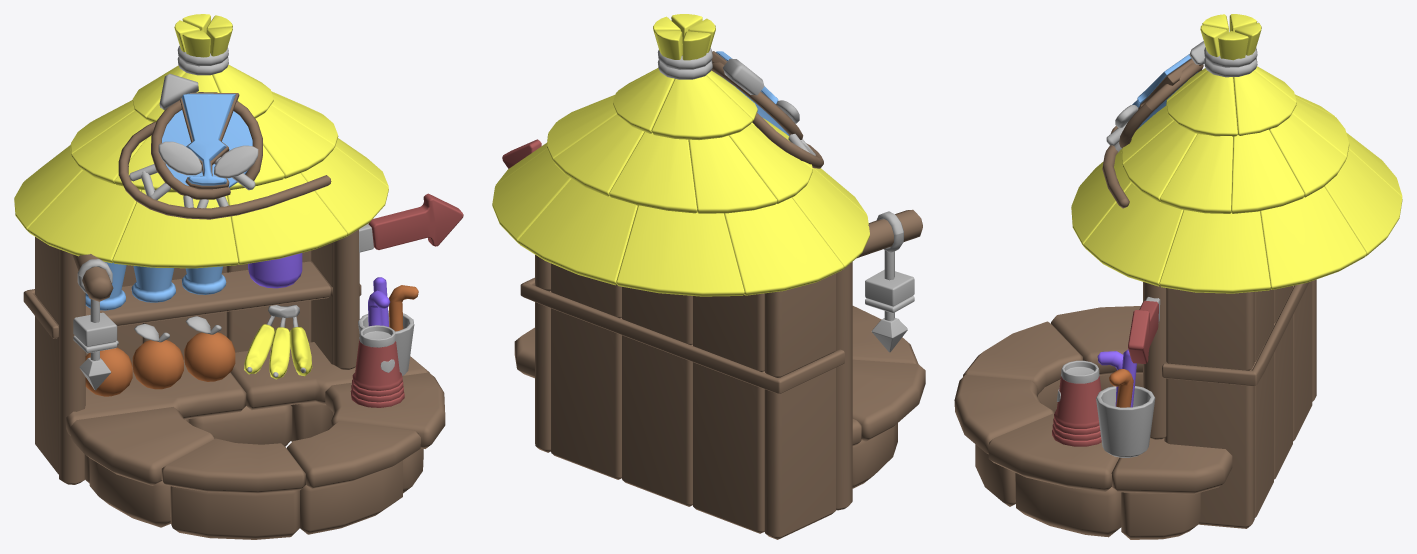
File: BeachBar_Fix.fbx
3 views of the same model, side by side, from view 1: azimuth 30°, elevation 25°; view 2: azimuth 150°, elevation 25°; view 3: azimuth 270°, elevation 25° (orthographic). The views are drawn at different scales.
Visible parts, largest first — view 1: M_BeachBar_11, S_BeachBar_56, S_BeachBar_47, M_BeachBar_10, S_BeachBar_7, M_BeachBar_15, M_BeachBar_3, M_BeachBar_9, S_BeachBar_6, M_BeachBar_20, M_BeachBar_5, M_BeachBar_22 (+51 smaller); view 2: M_BeachBar_2, M_BeachBar_12, M_BeachBar_8, M_BeachBar_14, S_BeachBar_25, S_BeachBar_21, S_BeachBar_3, M_BeachBar_1, S_BeachBar_48, S_BeachBar_42, S_BeachBar_37, M_BeachBar_7 (+23 smaller); view 3: M_BeachBar_24, S_BeachBar_50, S_BeachBar_39, M_BeachBar_25, S_BeachBar_18, M_BeachBar_22, M_BeachBar_21, M_BeachBar_9, M_BeachBar_6, M_BeachBar_10, S_BeachBar_26, S_BeachBar_13 (+28 smaller).
Part boxes in pixels (left/top/right/bottom): M_BeachBar_11: left=70, top=407, right=214, bottom=485; S_BeachBar_56: left=112, top=190, right=238, bottom=268; S_BeachBar_47: left=227, top=173, right=347, bottom=264; M_BeachBar_10: left=161, top=438, right=305, bottom=493; S_BeachBar_7: left=27, top=170, right=141, bottom=263; M_BeachBar_15: left=170, top=486, right=299, bottom=539; M_BeachBar_3: left=85, top=261, right=331, bottom=326; M_BeachBar_9: left=287, top=421, right=420, bottom=488; S_BeachBar_6: left=118, top=92, right=331, bottom=219; M_BeachBar_20: left=66, top=360, right=246, bottom=435; M_BeachBar_5: left=59, top=249, right=85, bottom=484; M_BeachBar_22: left=325, top=372, right=445, bottom=448; M_BeachBar_2: left=692, top=362, right=765, bottom=533; M_BeachBar_12: left=764, top=368, right=835, bottom=539; M_BeachBar_8: left=622, top=335, right=692, bottom=506; M_BeachBar_14: left=551, top=308, right=621, bottom=479; S_BeachBar_25: left=616, top=205, right=744, bottom=296; S_BeachBar_21: left=518, top=179, right=637, bottom=285; S_BeachBar_3: left=724, top=197, right=843, bottom=295; M_BeachBar_1: left=764, top=273, right=835, bottom=377; S_BeachBar_48: left=520, top=277, right=844, bottom=393; S_BeachBar_42: left=609, top=132, right=697, bottom=213; S_BeachBar_37: left=688, top=135, right=777, bottom=213; M_BeachBar_7: left=692, top=293, right=764, bottom=372; M_BeachBar_24: left=1164, top=369, right=1254, bottom=528; S_BeachBar_50: left=1159, top=210, right=1270, bottom=293; S_BeachBar_39: left=1260, top=186, right=1366, bottom=289; M_BeachBar_25: left=1166, top=288, right=1254, bottom=370; S_BeachBar_18: left=1083, top=183, right=1183, bottom=286; M_BeachBar_22: left=988, top=413, right=1119, bottom=491; M_BeachBar_21: left=1111, top=438, right=1232, bottom=494; M_BeachBar_9: left=954, top=375, right=1054, bottom=454; M_BeachBar_6: left=1015, top=473, right=1121, bottom=537; M_BeachBar_10: left=963, top=321, right=1082, bottom=394; S_BeachBar_26: left=1231, top=129, right=1304, bottom=213; S_BeachBar_13: left=1160, top=134, right=1233, bottom=213.
Size of the model in its own units: 548 by 575 by 533.
